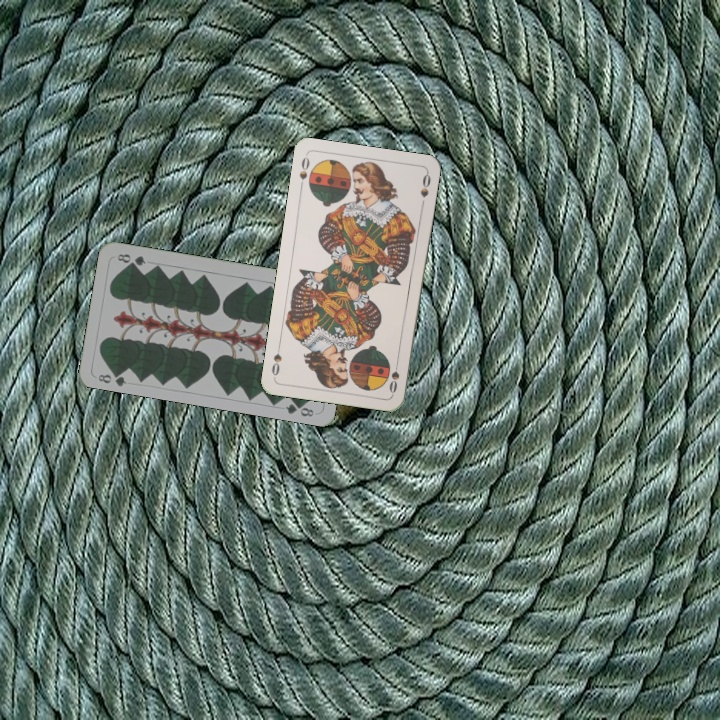G8: (94, 366, 129, 388)
SO: (385, 355, 402, 396), (295, 153, 312, 192)
